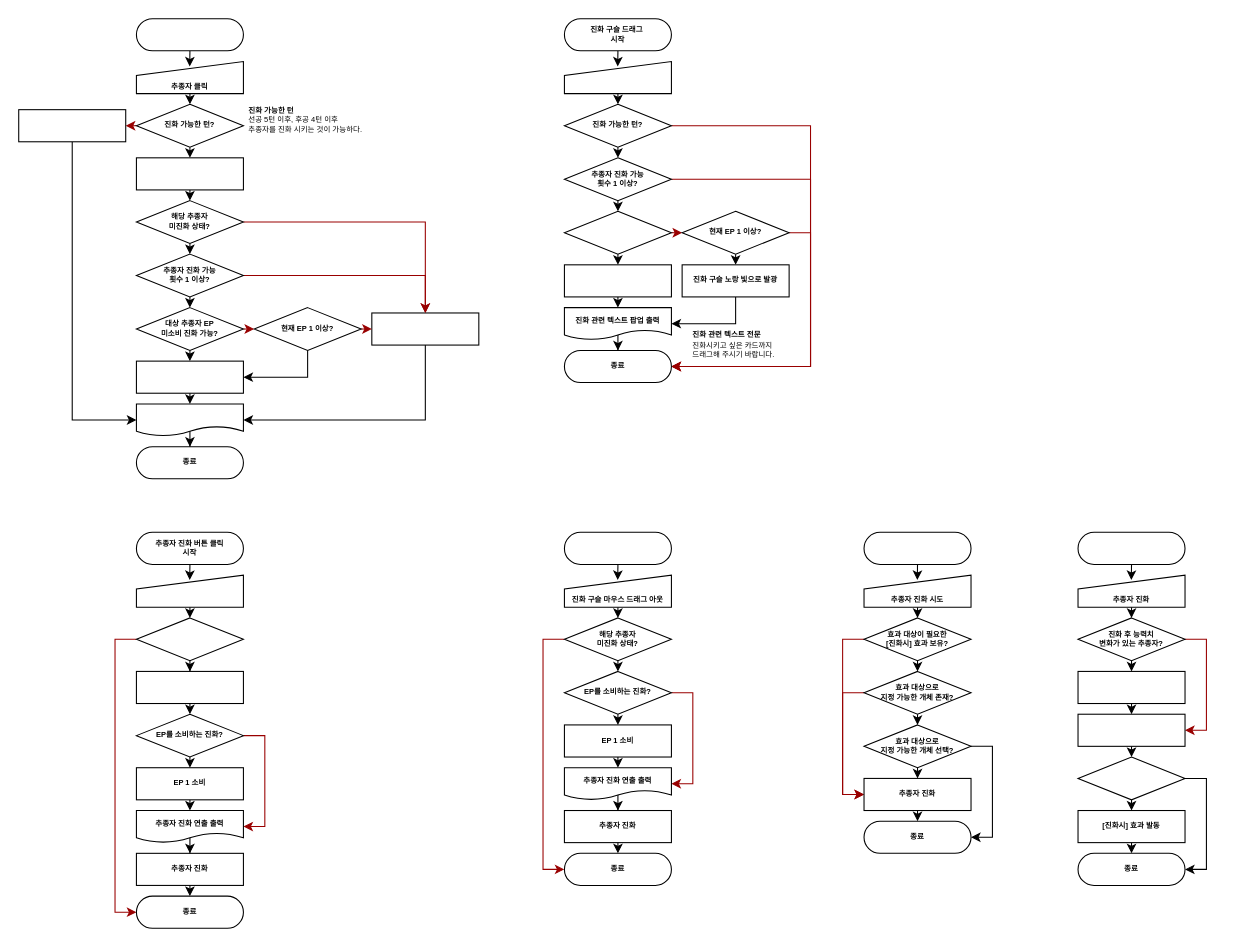
Image size: 1234x947. Some labels were removed from this diagram. Each missing label, with the centre of its shape:
"[진화시] 효과 보유?" belongs at (x=1131, y=778).
"EP 미소비 진화 가능 추종자 소환 상태?" belongs at (x=617, y=232).
"상태창에 진화 가능한 턴 까지 남은 턴을 표기하도록 설정" belongs at (x=72, y=125).
"상태창에 진화 버튼 출력하도록 설정" belongs at (x=189, y=173).
"진화 구슬 드래그 아웃 시작" belongs at (x=617, y=547).
"진화 구슬 마우스 드래그" belongs at (x=617, y=77).
"진화 구슬 푸른 빛으로 발광" belongs at (x=617, y=280).
"진화 버튼 비활성화" belongs at (x=425, y=328).
"진화 버튼 클릭" belongs at (x=189, y=590).
"진화 버튼 활성화" belongs at (x=189, y=376).
"진화 버튼 활성화 상태?" belongs at (x=189, y=639).
"진화한 추종자에게 [돌진-진화] 부여" belongs at (x=1131, y=729).
"추종자 능력치 변화" belongs at (x=1131, y=687).
"추종자 상태창 닫기" belongs at (x=189, y=687).
"추종자 상태창 출력 시작" belongs at (x=189, y=34).
"추종자 상태창 팝업" belongs at (x=189, y=419).
"추종자 진화 시도 시작" belongs at (x=917, y=547).
"추종자 진화 시작" belongs at (x=1131, y=547).
